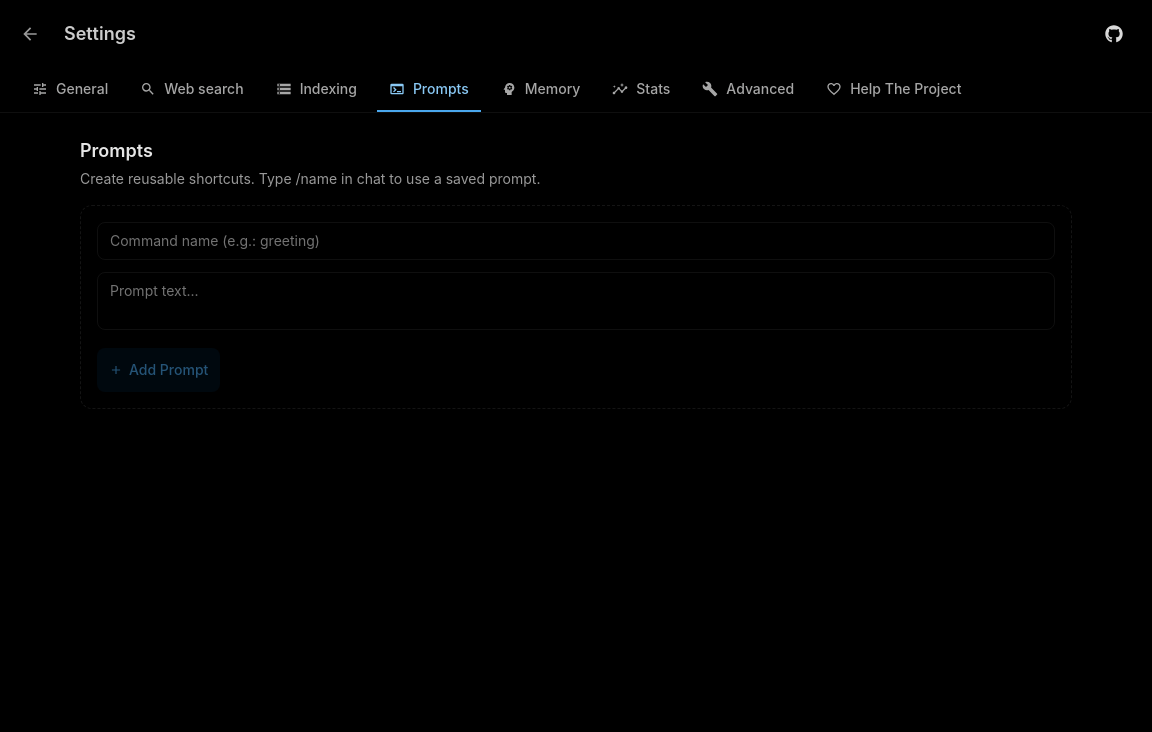
Test case: Settings section tabs › enables adding a custom prompt only when its name and text are filled
expect the button "Add Prompt" is disabled: met, box x1=97 y1=348 x2=220 y2=392
Type "Summary" into the field labelled "Command name (e.g.: greeting)".
click(576, 241); type("Summary")  # box x1=97 y1=222 x2=1055 y2=260
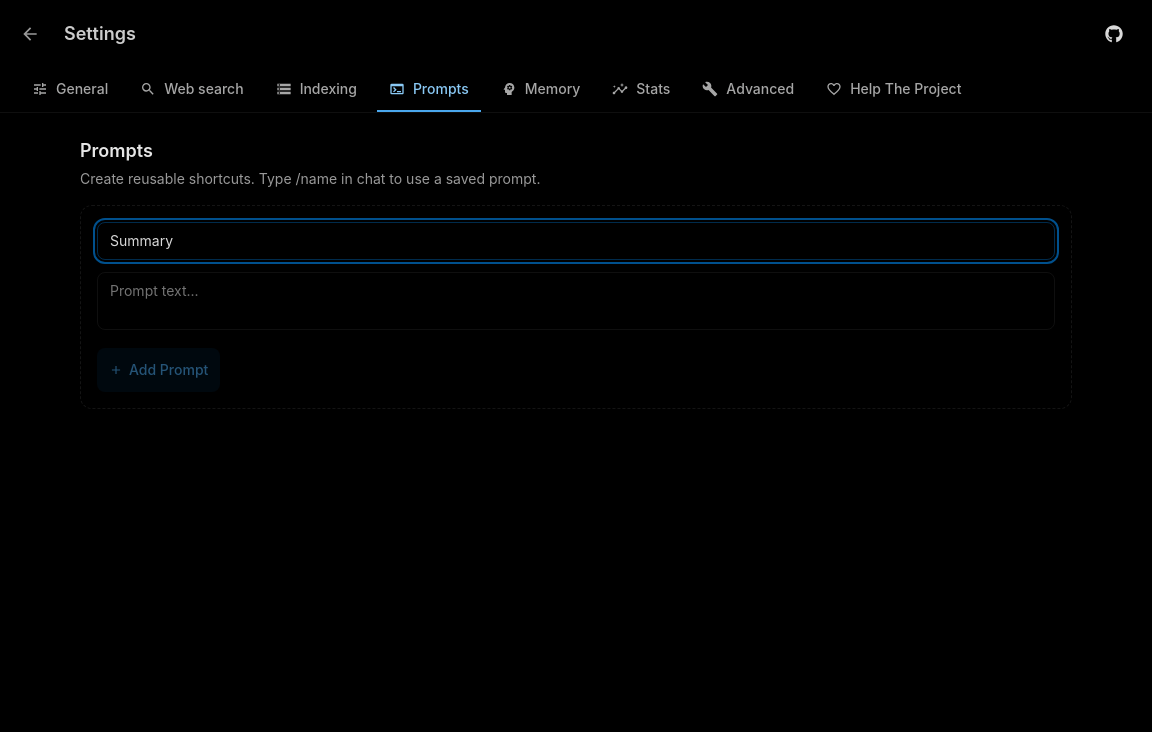
expect the button "Add Prompt" is disabled: met, box x1=97 y1=348 x2=220 y2=392
Type "Summarize in three points." into the text box labelled "Prompt text...".
click(576, 301); type("Summarize in three points.")  # box x1=97 y1=272 x2=1055 y2=330
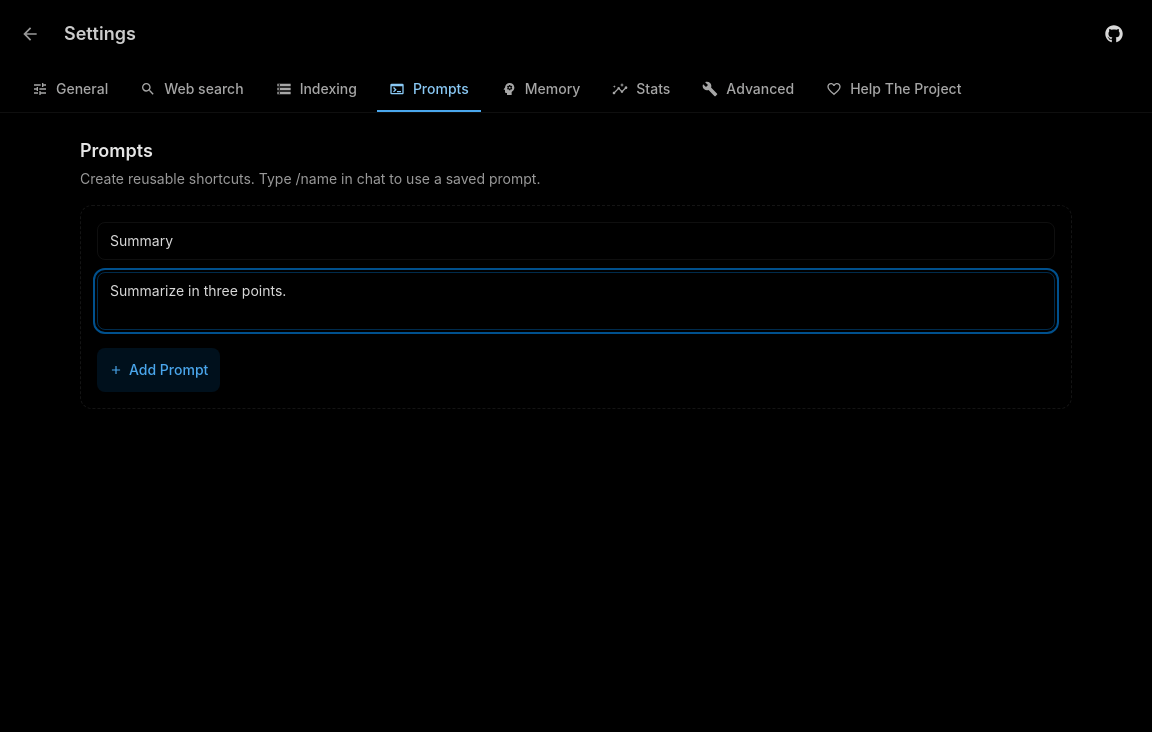
expect the button "Add Prompt" is enabled: met
Click the button "Add Prompt".
click(159, 370)  # box x1=97 y1=348 x2=220 y2=392
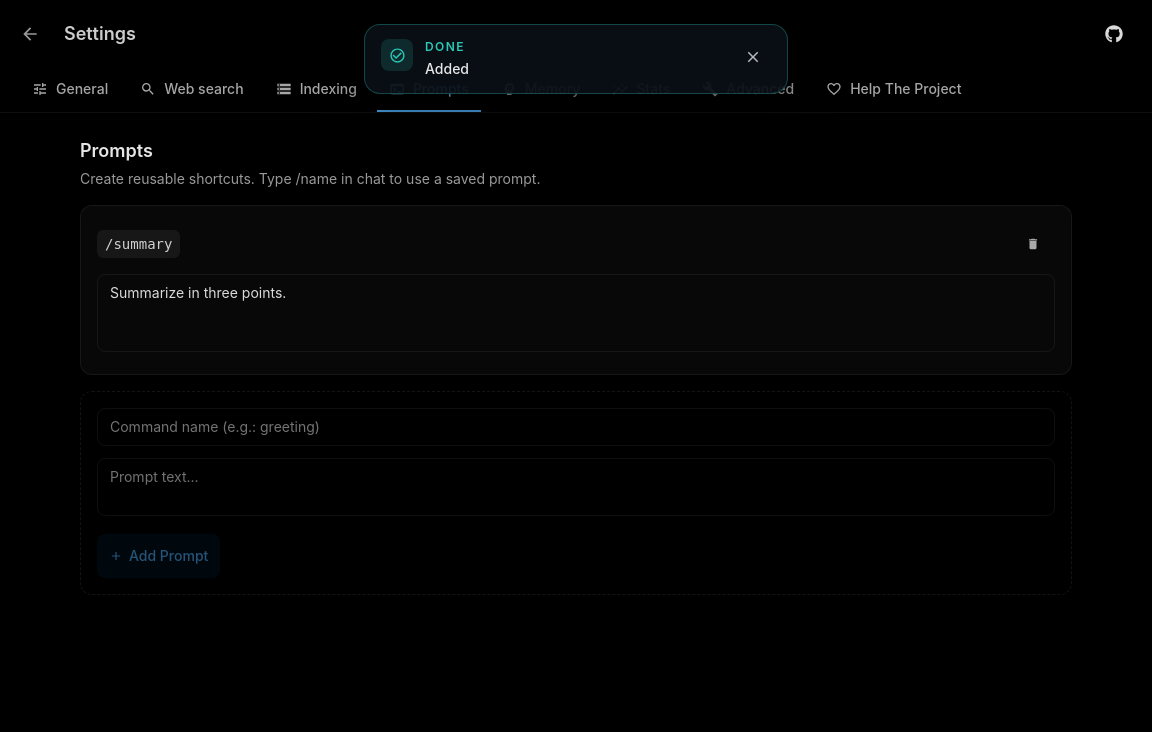
expect the text "/summary" is shown: met, box x1=97 y1=230 x2=180 y2=258
